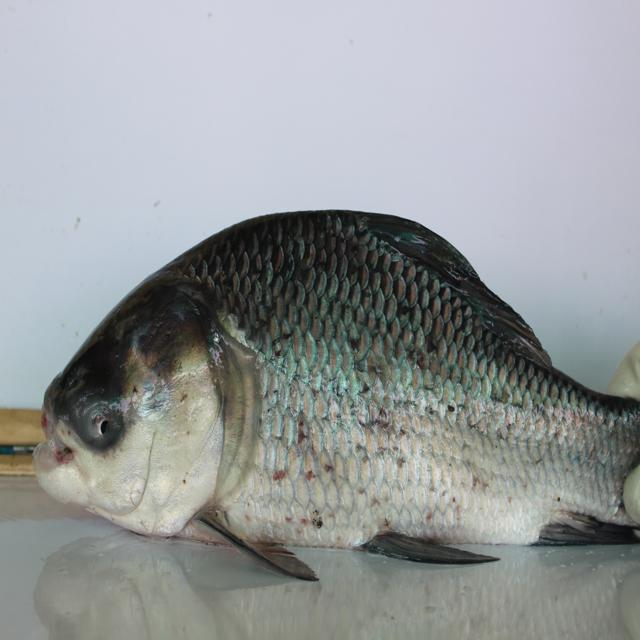Catla: (30, 204, 640, 573)
